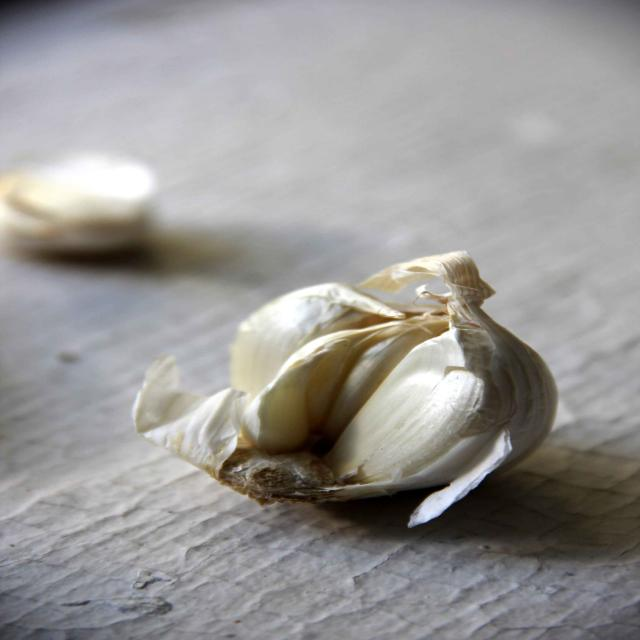garlic: (209, 256, 559, 519)
